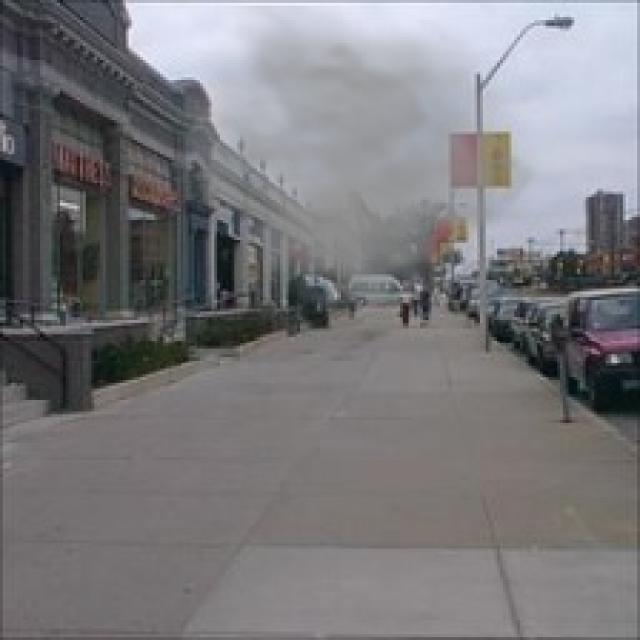Smoke: (155, 6, 554, 352)
